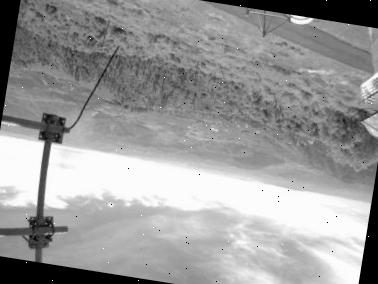smoke: (57, 104, 100, 170)
